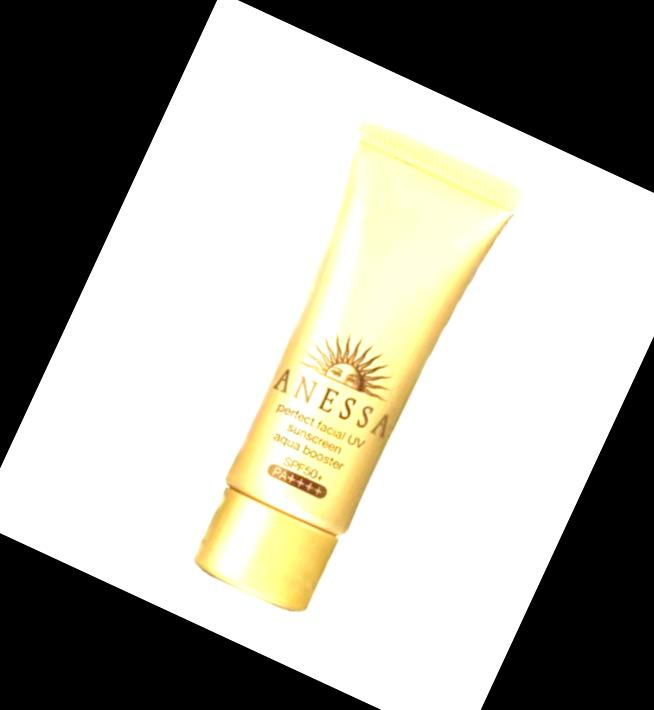cosmetic: (156, 113, 526, 629)
